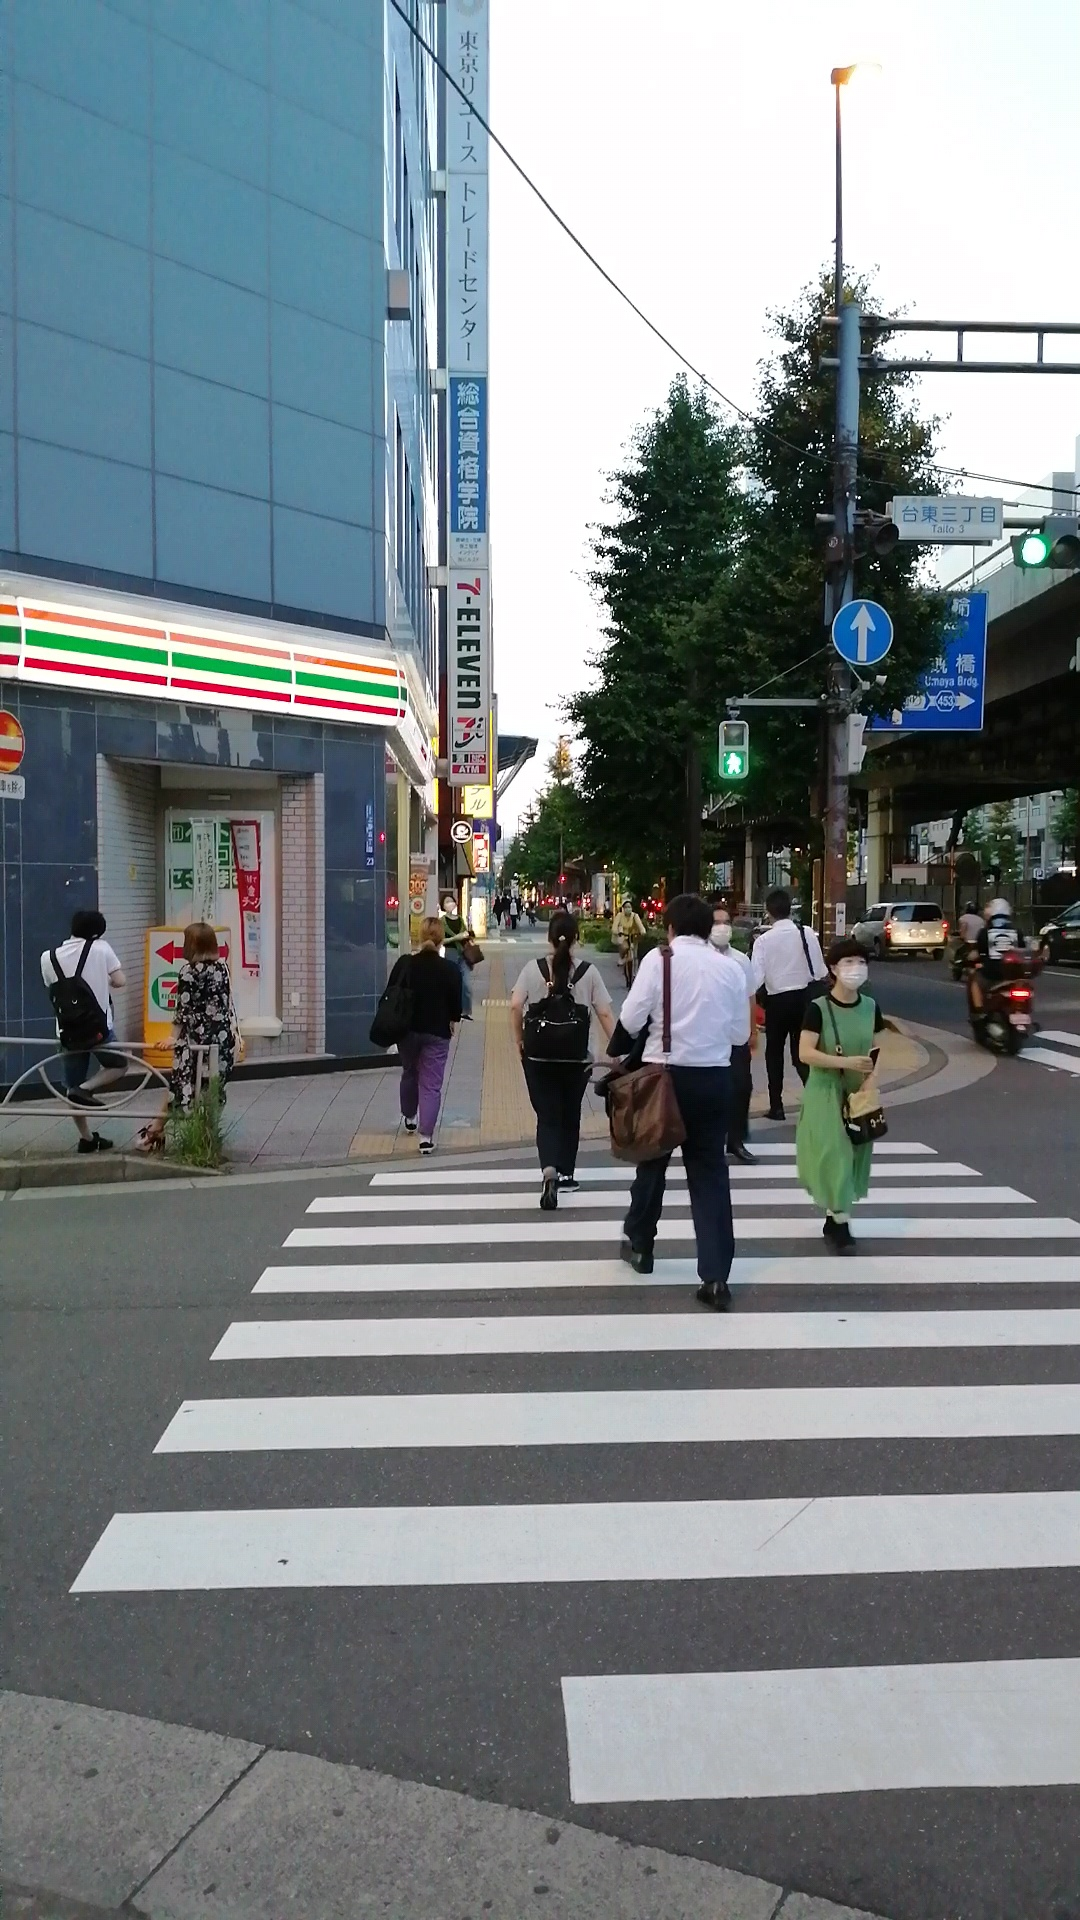green: (716, 717, 750, 781)
